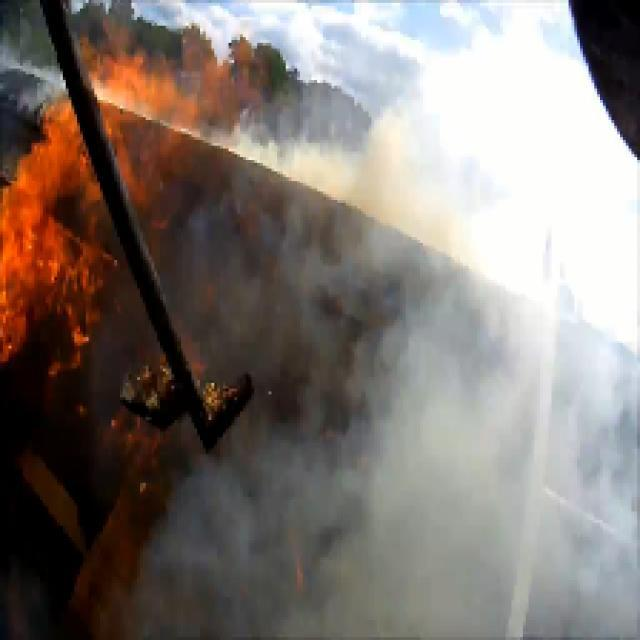Fire: (4, 177, 68, 300), (96, 76, 200, 121), (38, 104, 78, 172)
Smoke: (420, 100, 632, 639), (237, 436, 416, 635)
